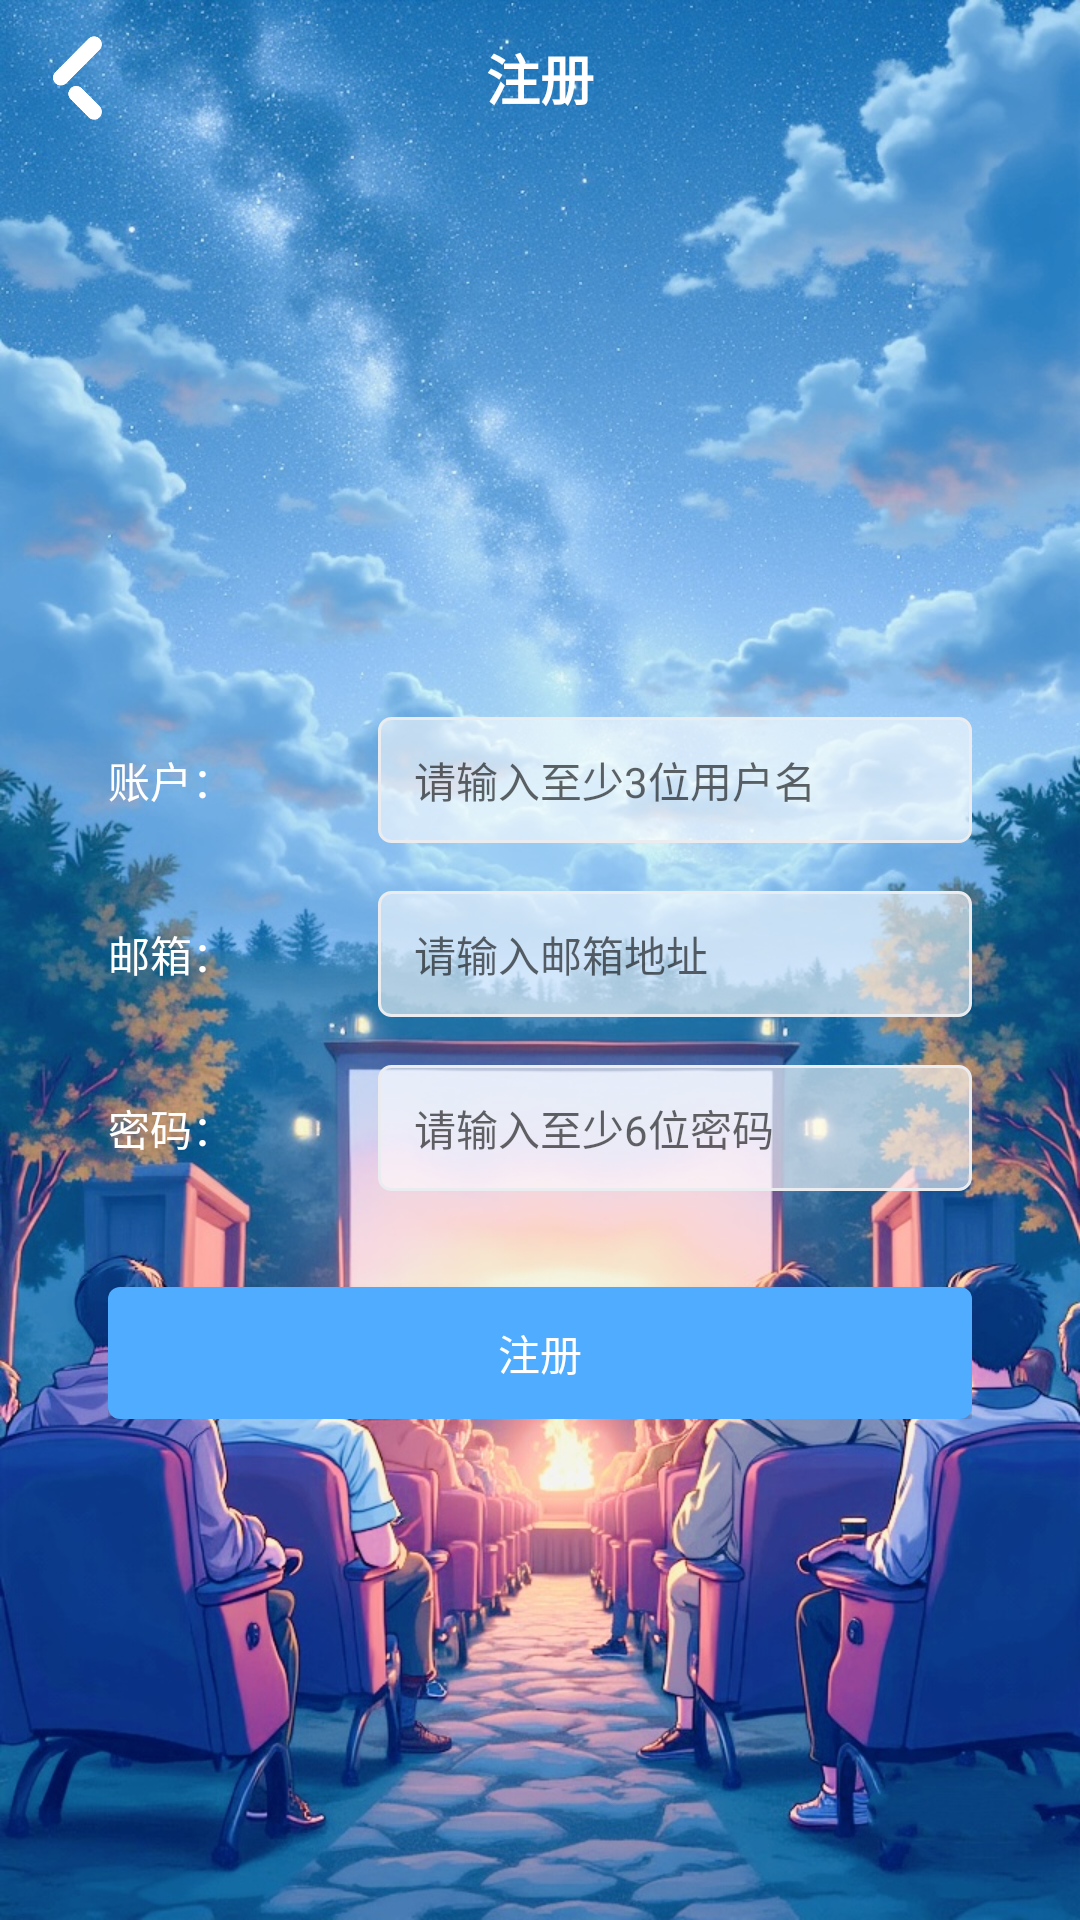

Locate icon controls on the screen. Image size 1080px×1920px, boxes as (x1, y1, x2, y2).
goback: (0, 0, 156, 156)
